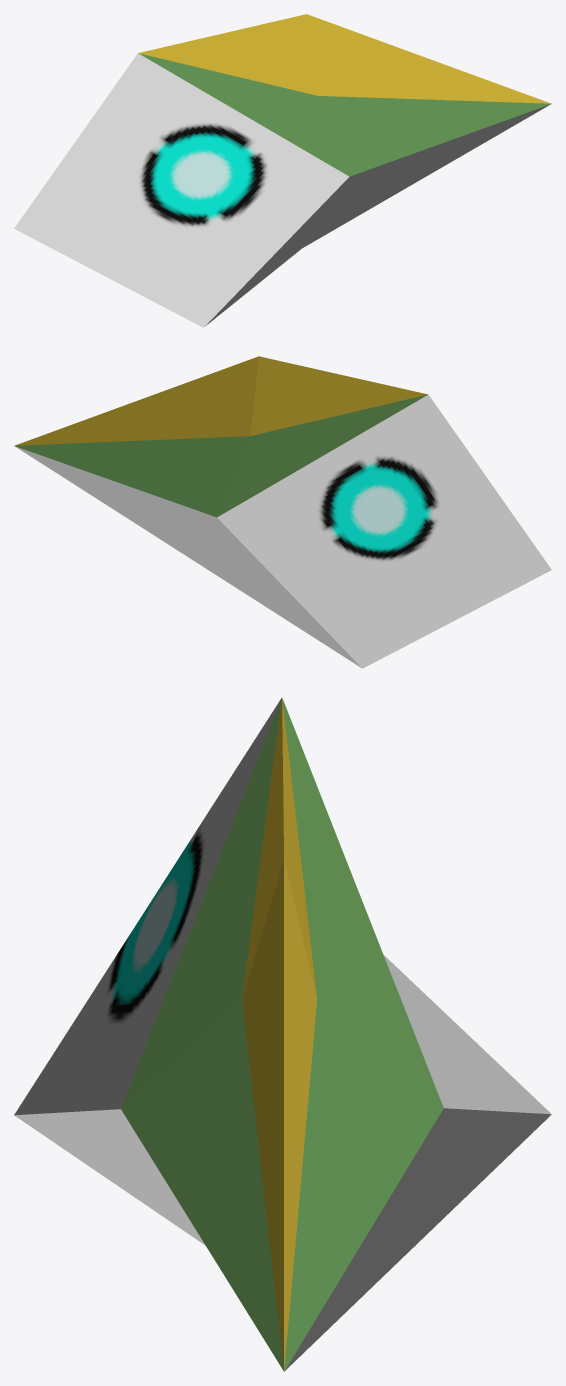
File: Fish Head.fbx
3 views of the same model, one above another, from view 1: azimuth 30°, elevation 25°; view 2: azimuth 150°, elevation 25°; view 3: azimuth 270°, elevation 25° (orthographic). The views are drawn at different scales.
Visible parts, largest first — view 1: Fish Head; view 2: Fish Head; view 3: Fish Head.
Boxes of the visible parts, x1,y1,x2,y2 form: Fish Head: [14, 14, 551, 327]; Fish Head: [14, 356, 551, 668]; Fish Head: [14, 697, 551, 1371].
Bounding box in the file's own units: 6.22 × 2.6 × 2.83.
1 material, 1 textured.
